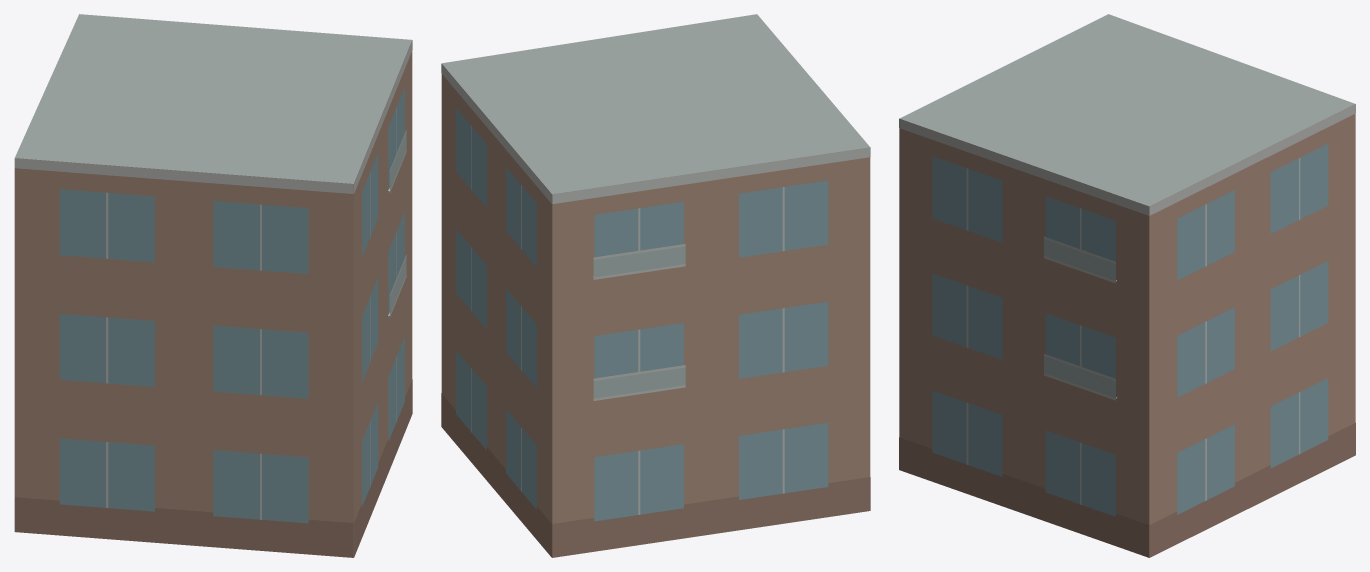
The model's file is survey-upis-32931011.glb.
3 renders of one model, left to right at view 1: azimuth 30°, elevation 25°; view 2: azimuth 150°, elevation 25°; view 3: azimuth 270°, elevation 25°, orthographic. The views are drawn at different scales.
Visible parts, largest first — view 1: survey-upis-32931011.tmp; view 2: survey-upis-32931011.tmp; view 3: survey-upis-32931011.tmp.
Part boxes in pixels (x1,y1,x2,y2): survey-upis-32931011.tmp: [14, 14, 412, 557]; survey-upis-32931011.tmp: [441, 14, 870, 557]; survey-upis-32931011.tmp: [899, 14, 1355, 557].
Size of the model in its own units: 10.58 by 9 by 10.6.
